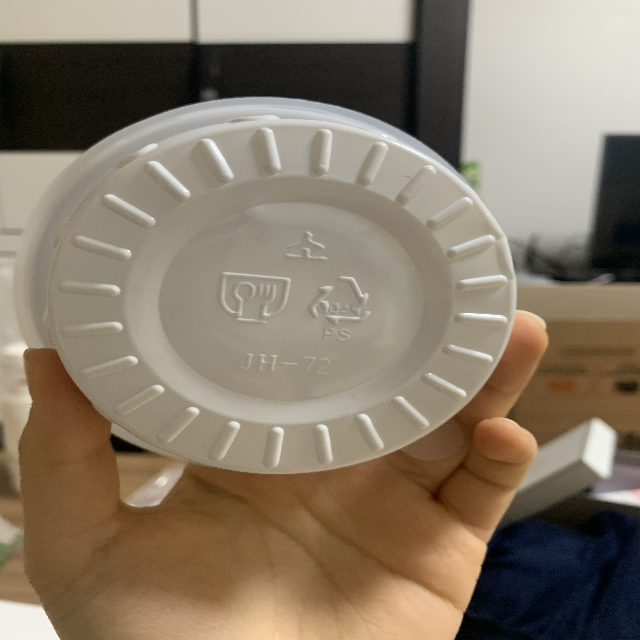ps: (305, 272, 373, 343)
